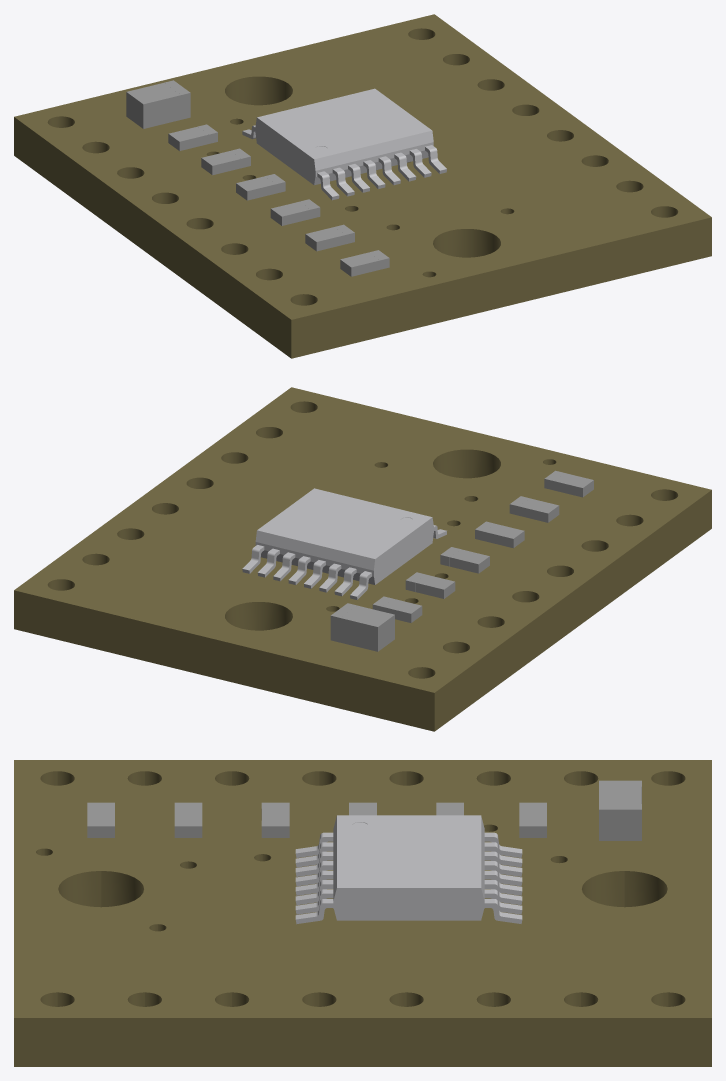
File: ada-5663.glb
The picture shows the model from 3 angles, top to bottom: view 1: azimuth 30°, elevation 25°; view 2: azimuth 150°, elevation 25°; view 3: azimuth 270°, elevation 25°; orthographic projection. The views are drawn at different scales.
Parts seen in each view (by area): view 1: 0.16666666666666666_0.16666666666666666_0.08333333333333333_, 0.5833333333333334_0.5833333333333334_0.5833333333333334_0.8, 0.3333333333333333_0.3333333333333333_0.3333333333333333_0; view 2: 0.16666666666666666_0.16666666666666666_0.08333333333333333_, 0.5833333333333334_0.5833333333333334_0.5833333333333334_0.8, 0.3333333333333333_0.3333333333333333_0.3333333333333333_0; view 3: 0.16666666666666666_0.16666666666666666_0.08333333333333333_, 0.5833333333333334_0.5833333333333334_0.5833333333333334_0.8, 0.3333333333333333_0.3333333333333333_0.3333333333333333_0.
Part boxes in pixels (left/top/right/bottom): 0.16666666666666666_0.16666666666666666_0.08333333333333333_: left=14, top=14, right=711, bottom=358; 0.5833333333333334_0.5833333333333334_0.5833333333333334_0.8: left=242, top=88, right=446, bottom=200; 0.3333333333333333_0.3333333333333333_0.3333333333333333_0: left=126, top=80, right=389, bottom=276; 0.16666666666666666_0.16666666666666666_0.08333333333333333_: left=14, top=387, right=711, bottom=731; 0.5833333333333334_0.5833333333333334_0.5833333333333334_0.8: left=242, top=488, right=446, bottom=599; 0.3333333333333333_0.3333333333333333_0.3333333333333333_0: left=330, top=470, right=593, bottom=651; 0.16666666666666666_0.16666666666666666_0.08333333333333333_: left=14, top=760, right=711, bottom=1066; 0.5833333333333334_0.5833333333333334_0.5833333333333334_0.8: left=295, top=815, right=522, bottom=924; 0.3333333333333333_0.3333333333333333_0.3333333333333333_0: left=87, top=780, right=641, bottom=840.
Bounding box in the file's own units: 1.78 × 0.277 × 2.03.
